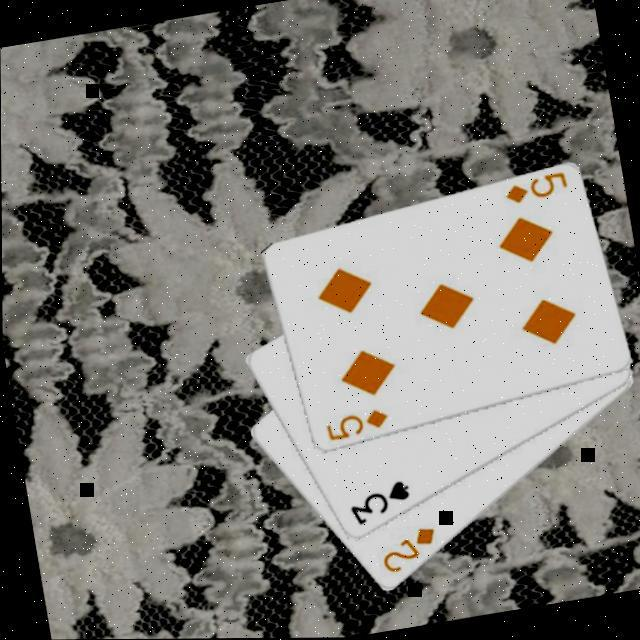2D: (375, 520, 444, 578)
3S: (343, 475, 418, 529)
5D: (499, 166, 574, 208), (322, 402, 394, 444)
